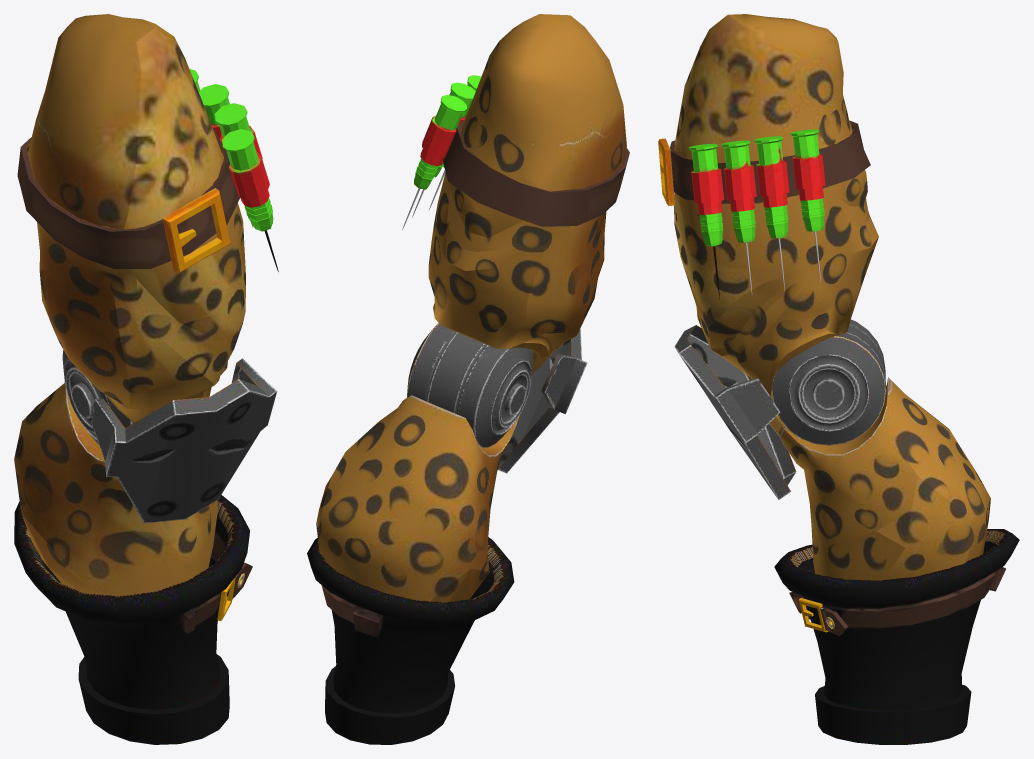
File: legL.fbx
3 views of the same model, side by side, from view 1: azimuth 30°, elevation 25°; view 2: azimuth 150°, elevation 25°; view 3: azimuth 270°, elevation 25° (orthographic). The views are drawn at different scales.
Parts seen in each view (by area): view 1: matte_0, plastic_1, matte_1.001, metalic_1, plastic_0, metalic_0.004; view 2: matte_0, matte_1.001, plastic_1, metalic_1, plastic_0; view 3: matte_0, plastic_1, matte_1.001, plastic_0, submetalic_0.001, metalic_1, metalic_0.004.
Part boxes in pixels (bbox=[...]): matte_0: bbox=[17, 14, 245, 444]; plastic_1: bbox=[14, 495, 252, 744]; matte_1.001: bbox=[14, 382, 217, 596]; metalic_1: bbox=[91, 358, 277, 523]; plastic_0: bbox=[189, 69, 278, 271]; metalic_0.004: bbox=[162, 188, 230, 273]; matte_0: bbox=[407, 14, 629, 447]; matte_1.001: bbox=[316, 395, 519, 602]; plastic_1: bbox=[307, 537, 514, 744]; metalic_1: bbox=[497, 328, 587, 473]; plastic_0: bbox=[402, 75, 481, 229]; matte_0: bbox=[670, 14, 885, 435]; plastic_1: bbox=[774, 529, 1019, 744]; matte_1.001: bbox=[778, 377, 990, 580]; plastic_0: bbox=[689, 129, 825, 299]; submetalic_0.001: bbox=[771, 336, 885, 445]; metalic_1: bbox=[674, 325, 796, 499]; metalic_0.004: bbox=[658, 138, 674, 205].
Bounding box in the file's own units: 578 × 824 × 1694.
Materials: 1 (1 with a texture image).
